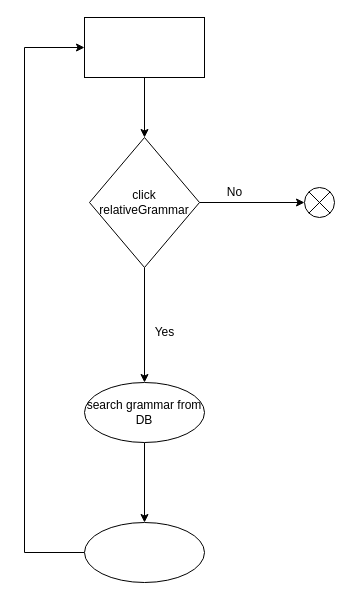
This 352x600 diagram has some shape labels left out. The box of each missing label's shape, as (x1, y1, x2, y2) in pixels:
set grammar: (84, 522, 204, 582)
the screen display UI_grammar: (84, 16, 204, 78)
